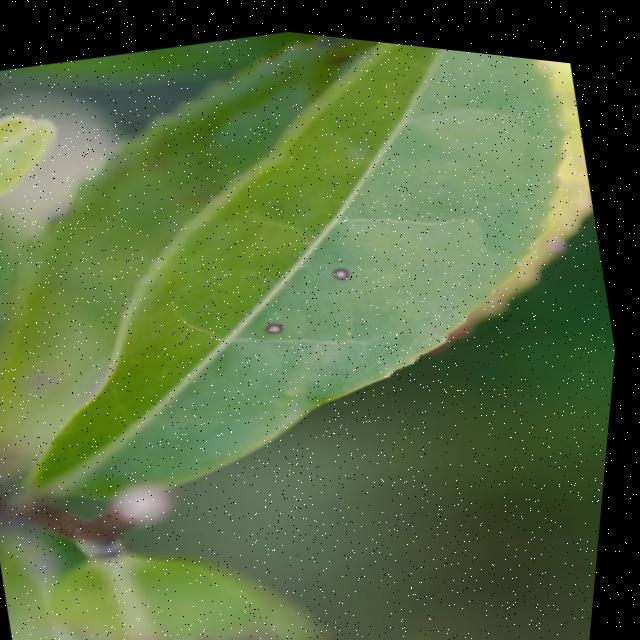Tea red scab: (318, 245, 365, 281), (266, 306, 295, 329)
